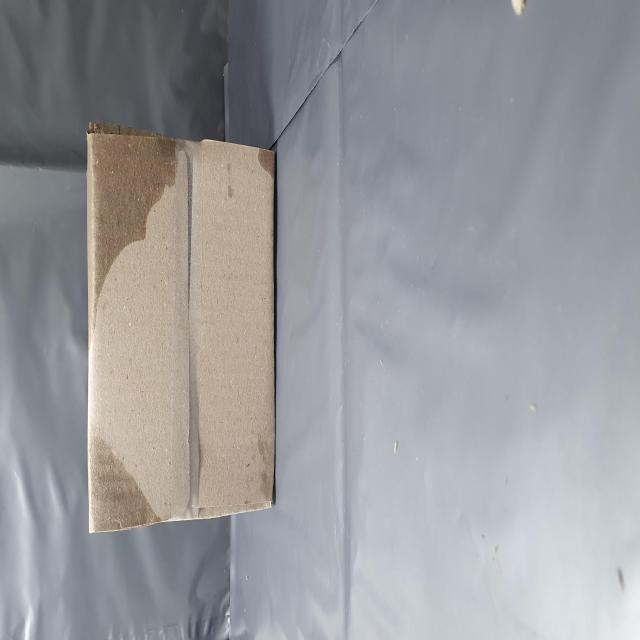wet: (183, 164, 289, 320), (61, 152, 118, 298)
